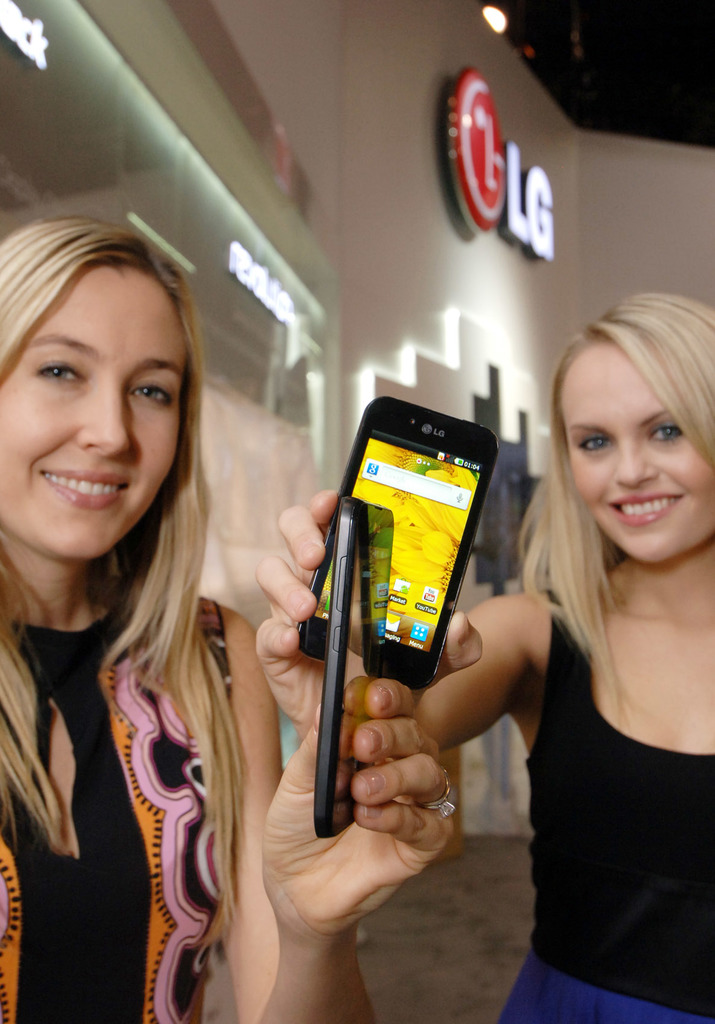Mobile-phone: (293, 396, 499, 689), (317, 496, 391, 837)
